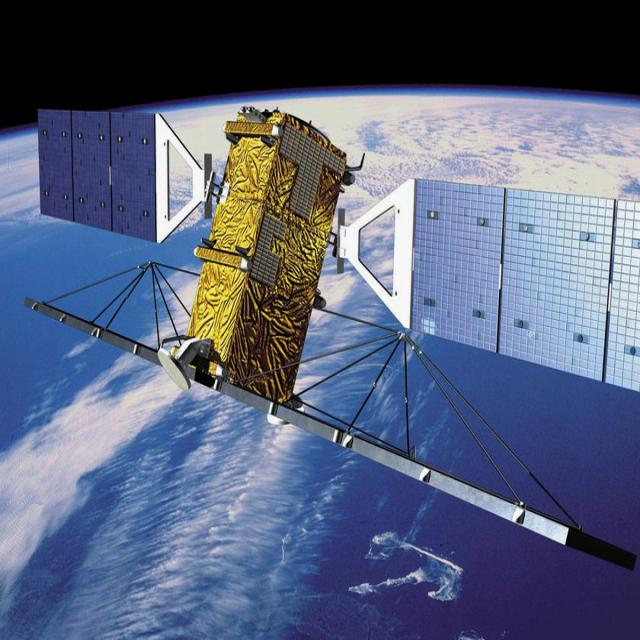medium_debris: (17, 97, 639, 577)
